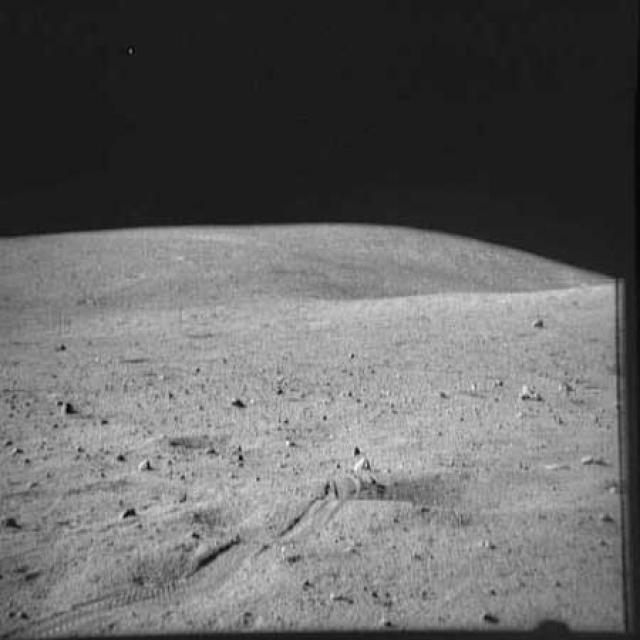crater: (292, 458, 604, 530), (164, 424, 267, 458), (190, 493, 268, 537)
rock: (351, 453, 383, 476), (52, 394, 81, 419), (517, 380, 546, 404), (118, 500, 144, 524), (580, 452, 614, 468), (137, 453, 159, 476), (0, 510, 23, 531), (228, 394, 252, 409), (531, 311, 548, 331)
